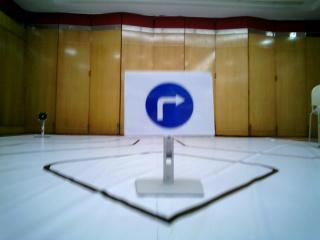right: (128, 72, 216, 132)
